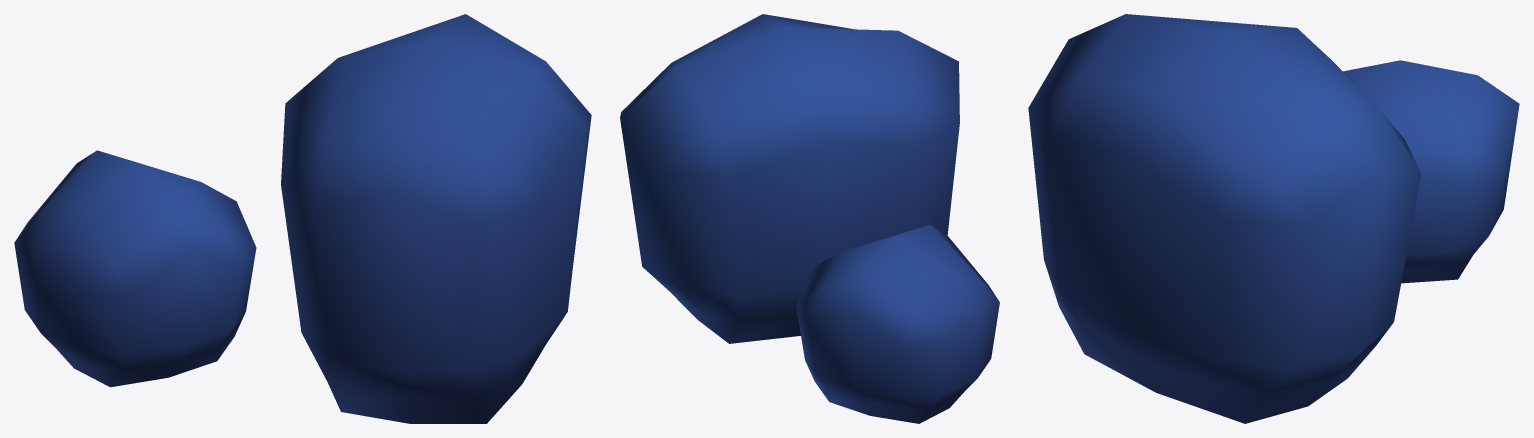
Rendered from SM_Rocks_02.fbx.
3 views of the same model, side by side, from view 1: azimuth 30°, elevation 25°; view 2: azimuth 150°, elevation 25°; view 3: azimuth 270°, elevation 25° (orthographic). The views are drawn at different scales.
Visible parts, largest first — view 1: SM_Rocks_02; view 2: SM_Rocks_02; view 3: SM_Rocks_02.
Boxes of the visible parts, x1,y1,x2,y2 form: SM_Rocks_02: (14, 14, 591, 423); SM_Rocks_02: (620, 14, 999, 423); SM_Rocks_02: (1028, 14, 1519, 423).
Size of the model in its own units: 104 by 69.74 by 91.1.
